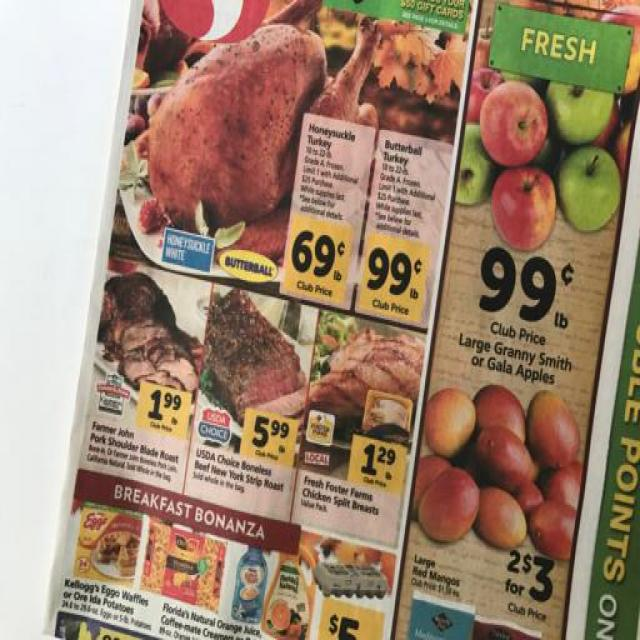paper: (39, 9, 637, 631)
